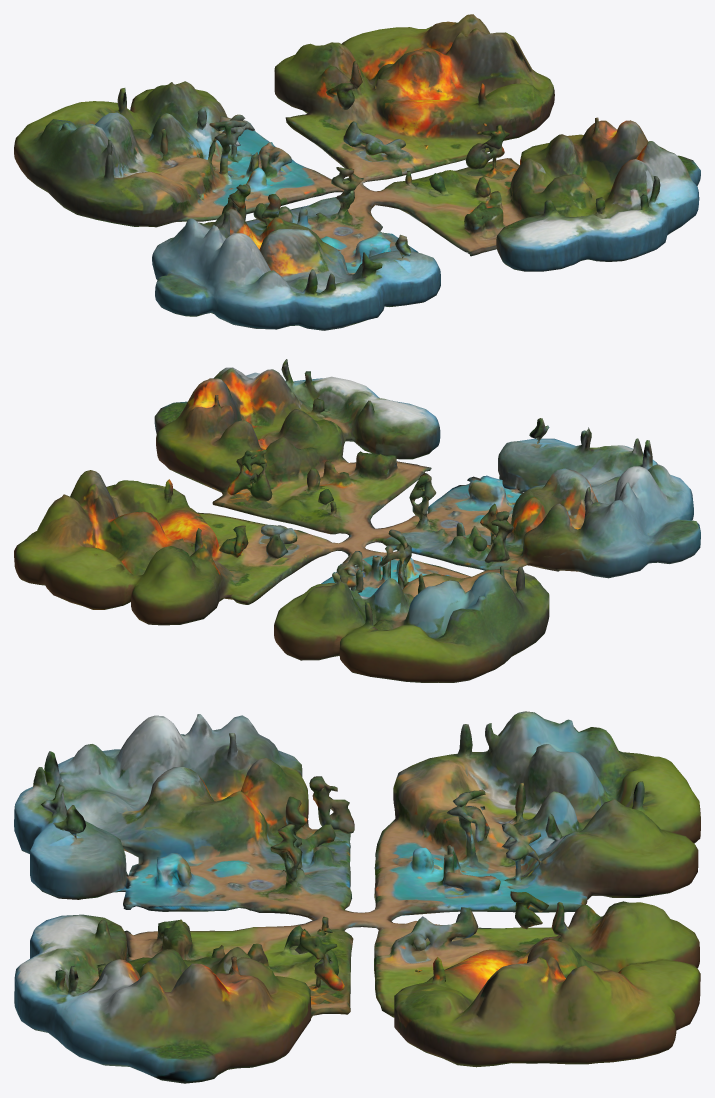
Rendered from map_ver2.obj.
3 views of the same model, one above another, from view 1: azimuth 30°, elevation 25°; view 2: azimuth 150°, elevation 25°; view 3: azimuth 270°, elevation 25° (orthographic). The views are drawn at different scales.
Visible parts, largest first — view 1: map_ver2; view 2: map_ver2; view 3: map_ver2.
Part boxes in pixels (x1,y1,x2,y2): map_ver2: (14,14,700,330); map_ver2: (14,359,700,682); map_ver2: (14,711,700,1083).
Size of the model in its own units: 2.01 by 0.2579 by 1.78.
